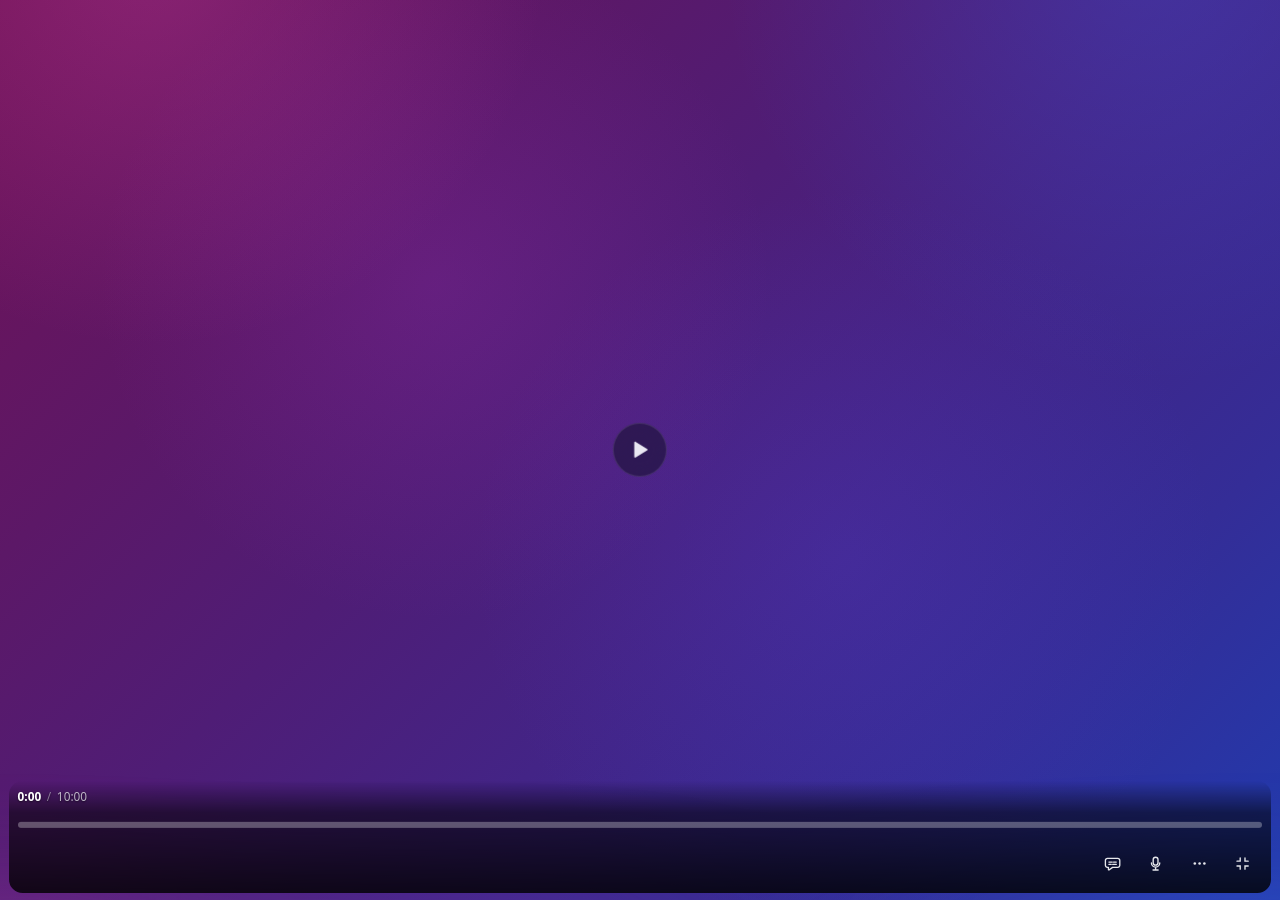
ElvernPlayerOverlay controls visibility › zoom-fill mode survives overlay rerender and offers fit action
Click the button named "More options".
click(1199, 864)  # box [1179,844,1219,884]
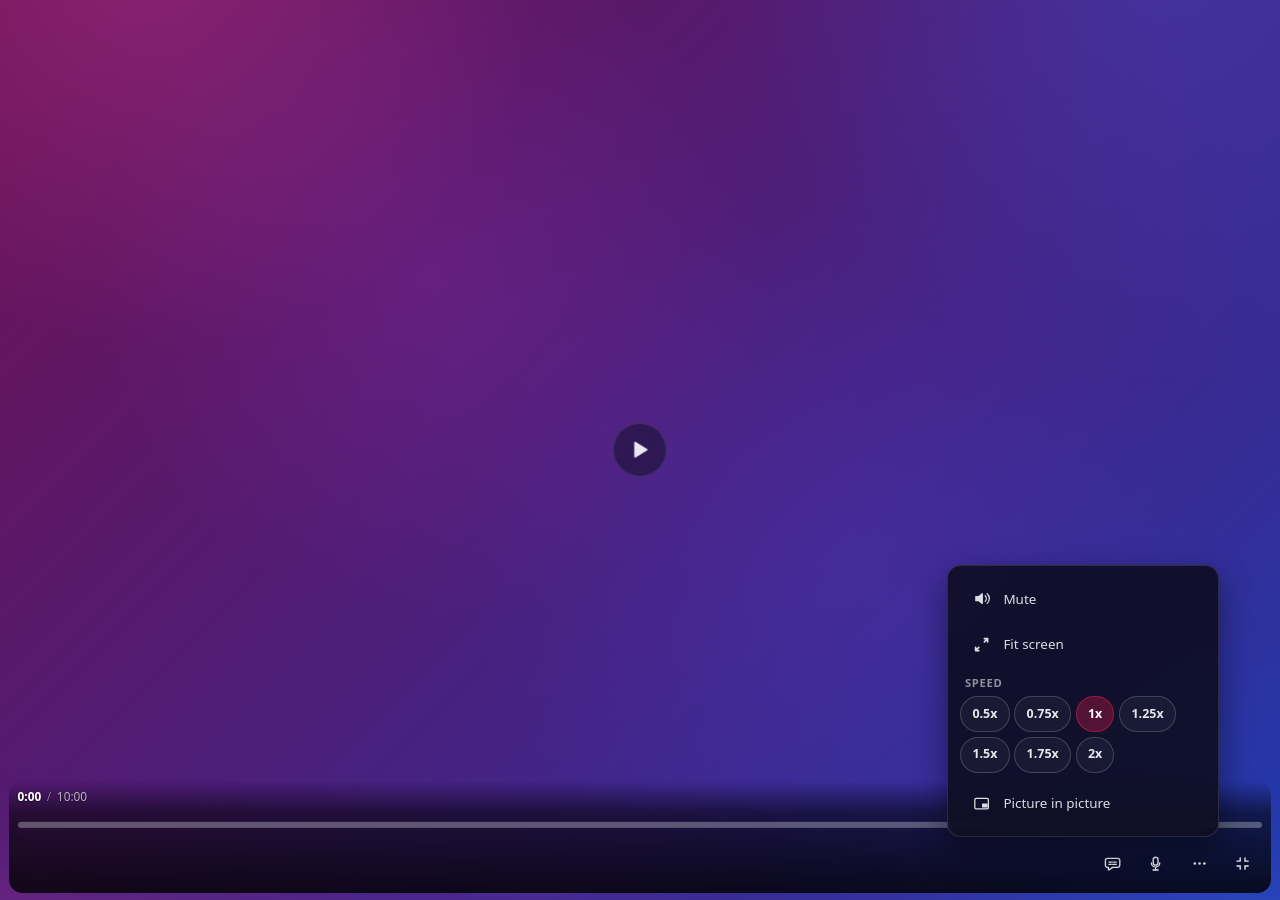
Expected: the menu item "Fit screen" is shown, [959,622,1208,666]
